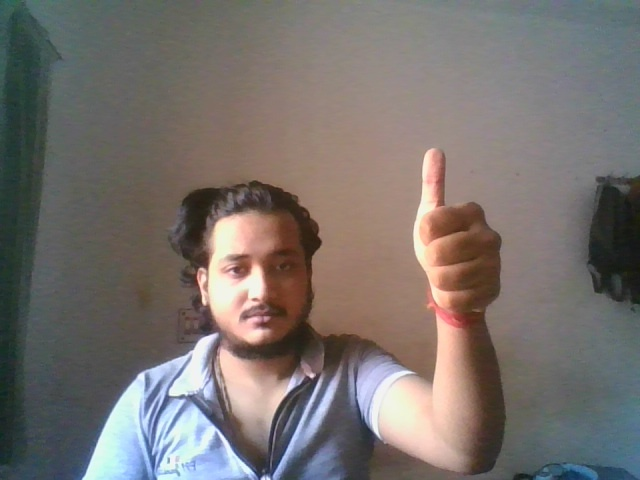ThumbsUp: (411, 146, 507, 309)
